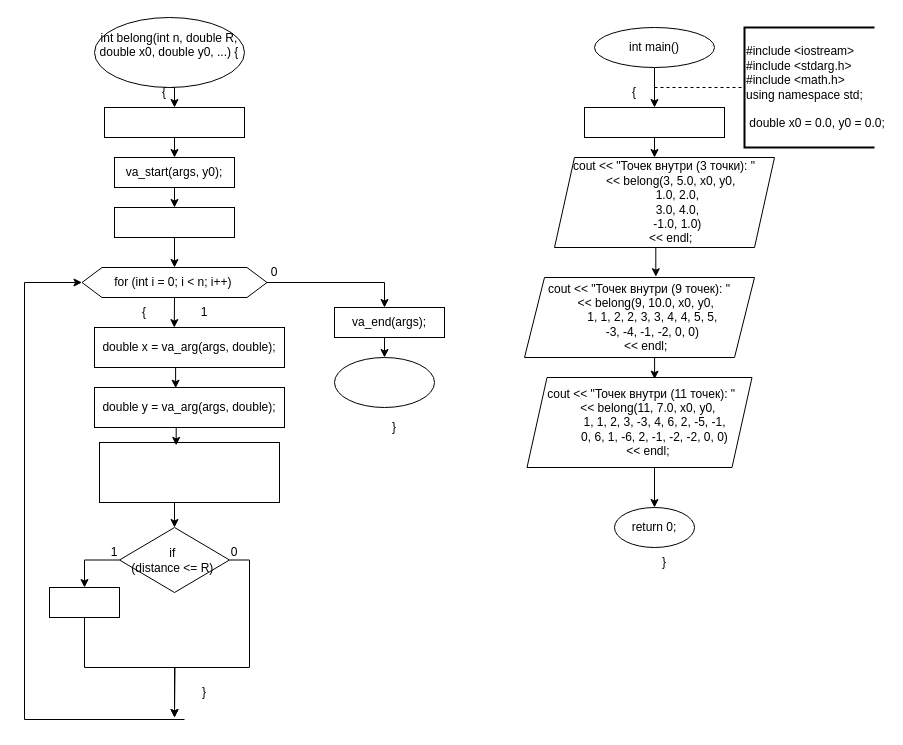
Image size: 903x745. Some labels were removed from this diagram. The box of each missing label's shape, as (x1, y1, x2, y2) in pixels:
count++;: (48, 586, 120, 618)
double distance = sqrt((x - x0) * (x - x0) + (y - y0) * (y - y0));: (98, 442, 280, 502)
int count = 0;: (114, 206, 234, 238)
return count;: (334, 356, 434, 408)
setlocale(LC_ALL, "ru");: (584, 106, 724, 138)
va_list args;: (104, 106, 244, 138)
